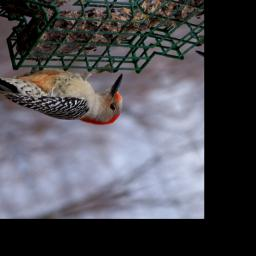Woodpecker: (0, 35, 139, 153)
